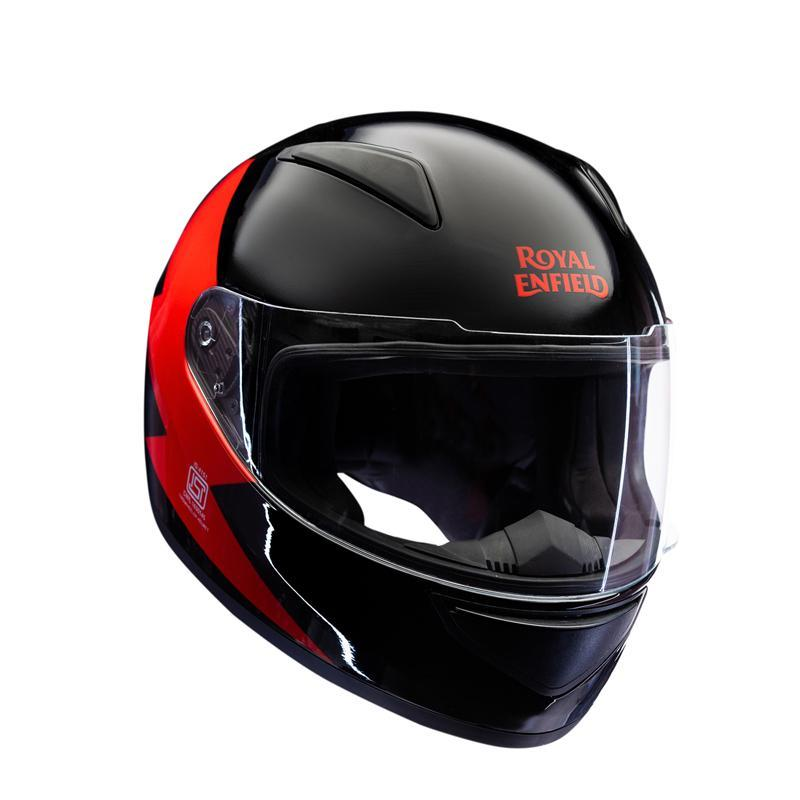helmet: (136, 112, 712, 763)
